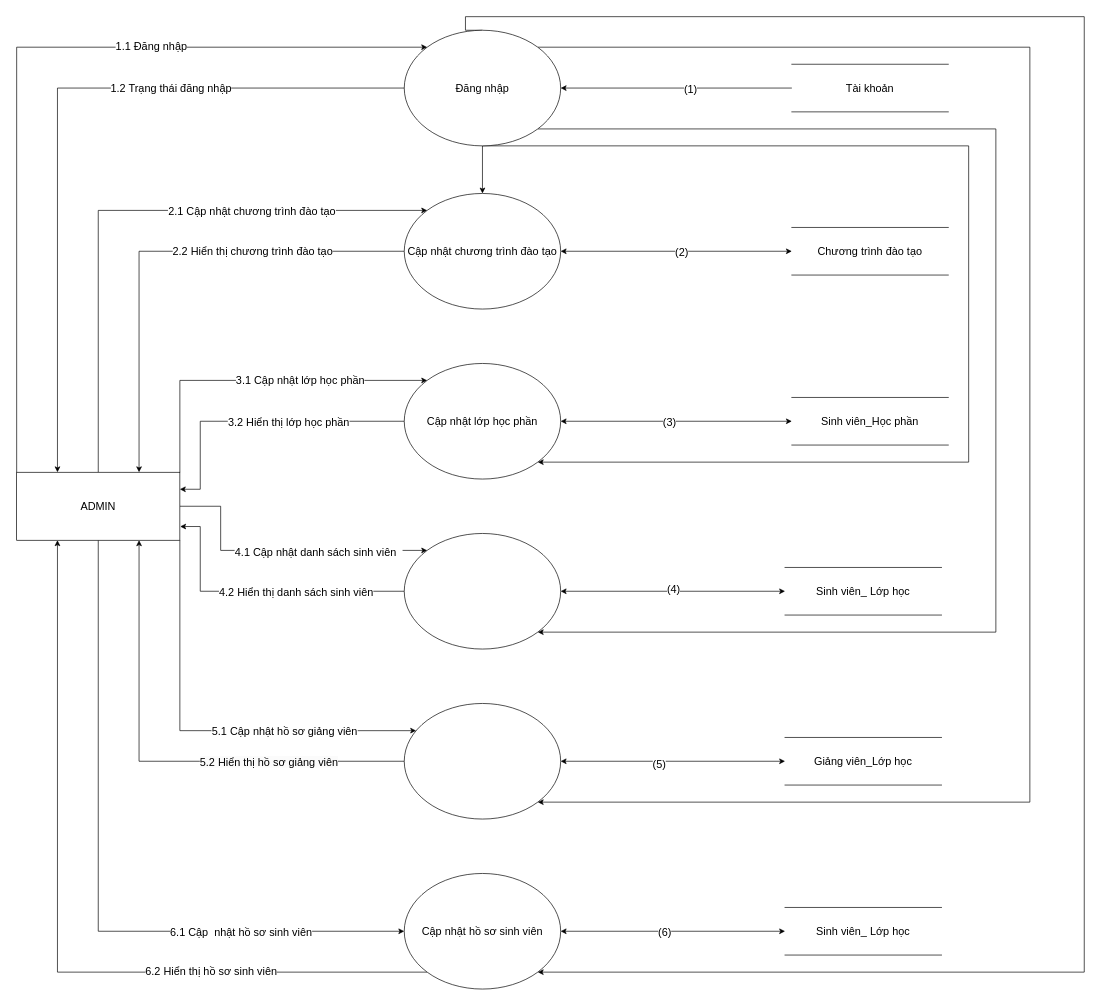
The diagram is 1102 pixels wide and 1001 high, and some of its shapes have lost their labels. The shapes that lost their labels are listed below. From the top down, each one's centre as x and y in pixels, then its label:
At (482,591): "Cập nhật danh sách sinh viên".
At (482,761): "Cập nhật hồ sơ giảng viên".
